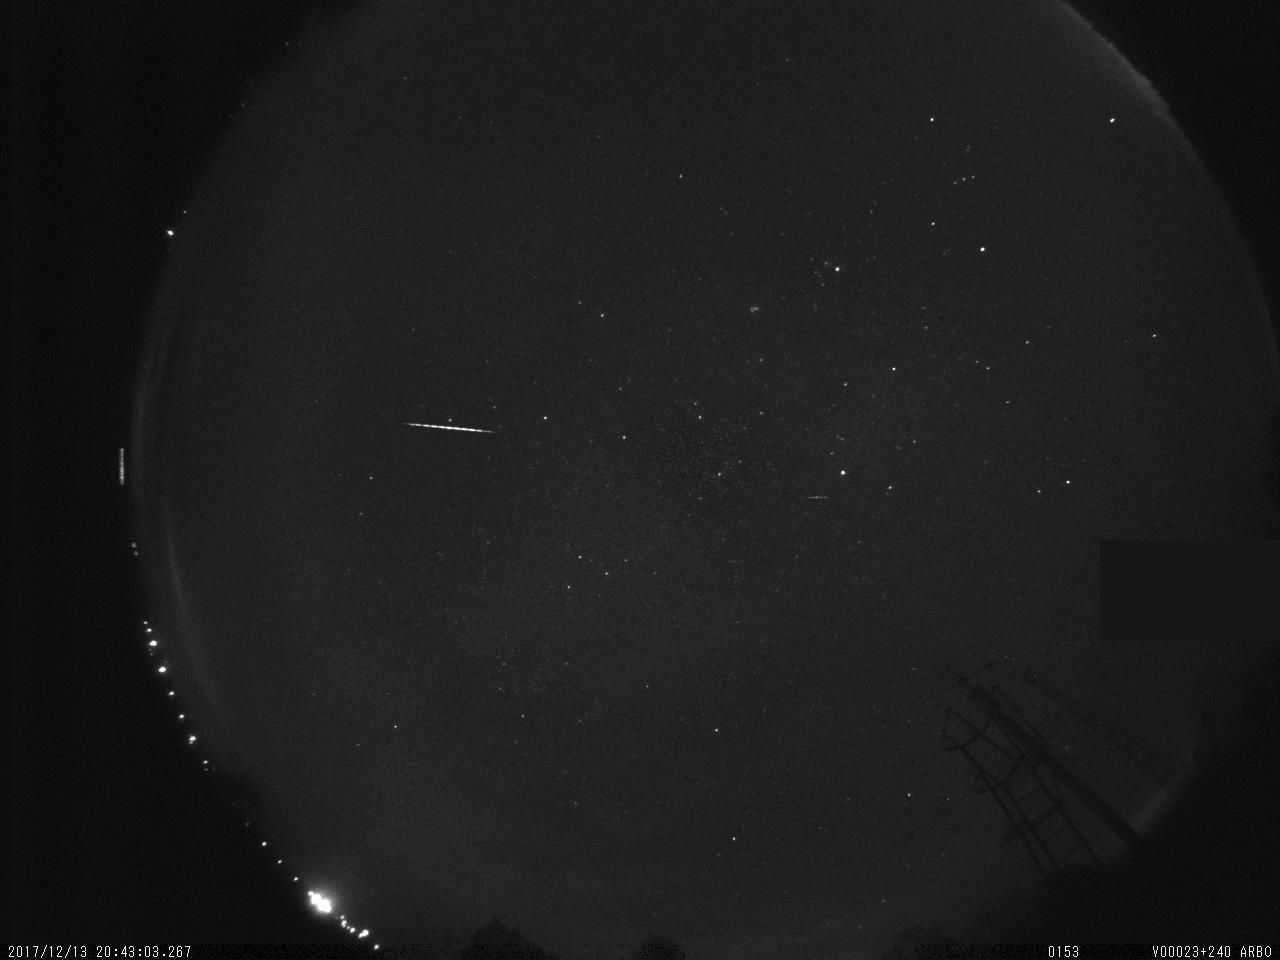meteor: (383, 405, 517, 445), (791, 487, 843, 510)
